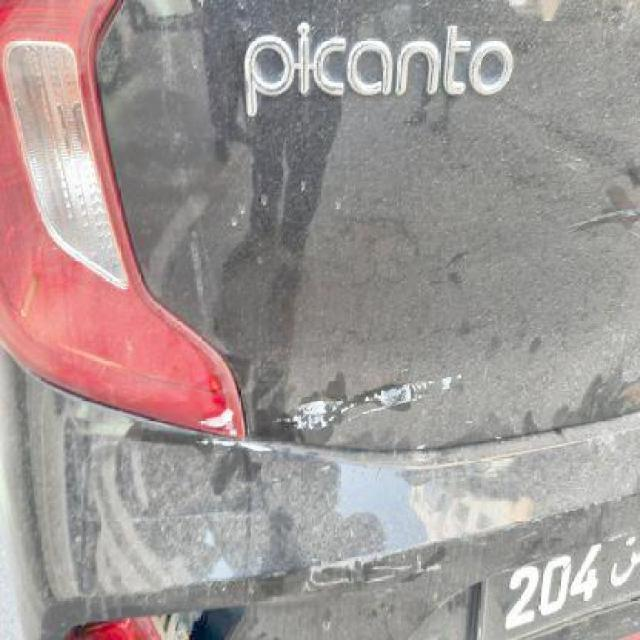car damage: (59, 415, 313, 595), (275, 365, 358, 450)
